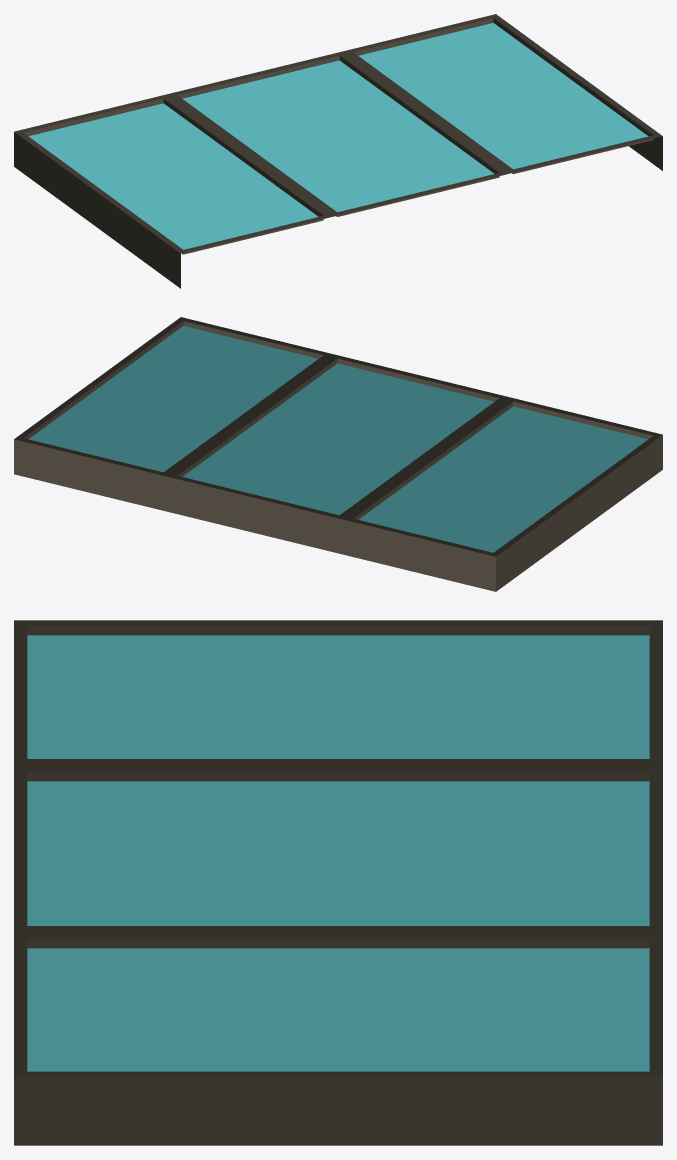
File: P_F_OLDType3SansBF.fbx
3 views of the same model, one above another, from view 1: azimuth 30°, elevation 25°; view 2: azimuth 150°, elevation 25°; view 3: azimuth 270°, elevation 25° (orthographic). The views are drawn at different scales.
Visible parts, largest first — view 1: P_F_OLDType3SansBF; view 2: P_F_OLDType3SansBF; view 3: P_F_OLDType3SansBF.
Boxes of the visible parts, x1,y1,x2,y2 form: P_F_OLDType3SansBF: (14,14,662,288); P_F_OLDType3SansBF: (14,317,662,591); P_F_OLDType3SansBF: (14,620,662,1145).
Size of the model in its own units: 500 by 34.77 by 300.
